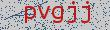g: (50, 4, 66, 28)
j: (78, 1, 94, 27), (64, 1, 79, 27)
p: (18, 3, 39, 27)
v: (36, 4, 51, 27)
